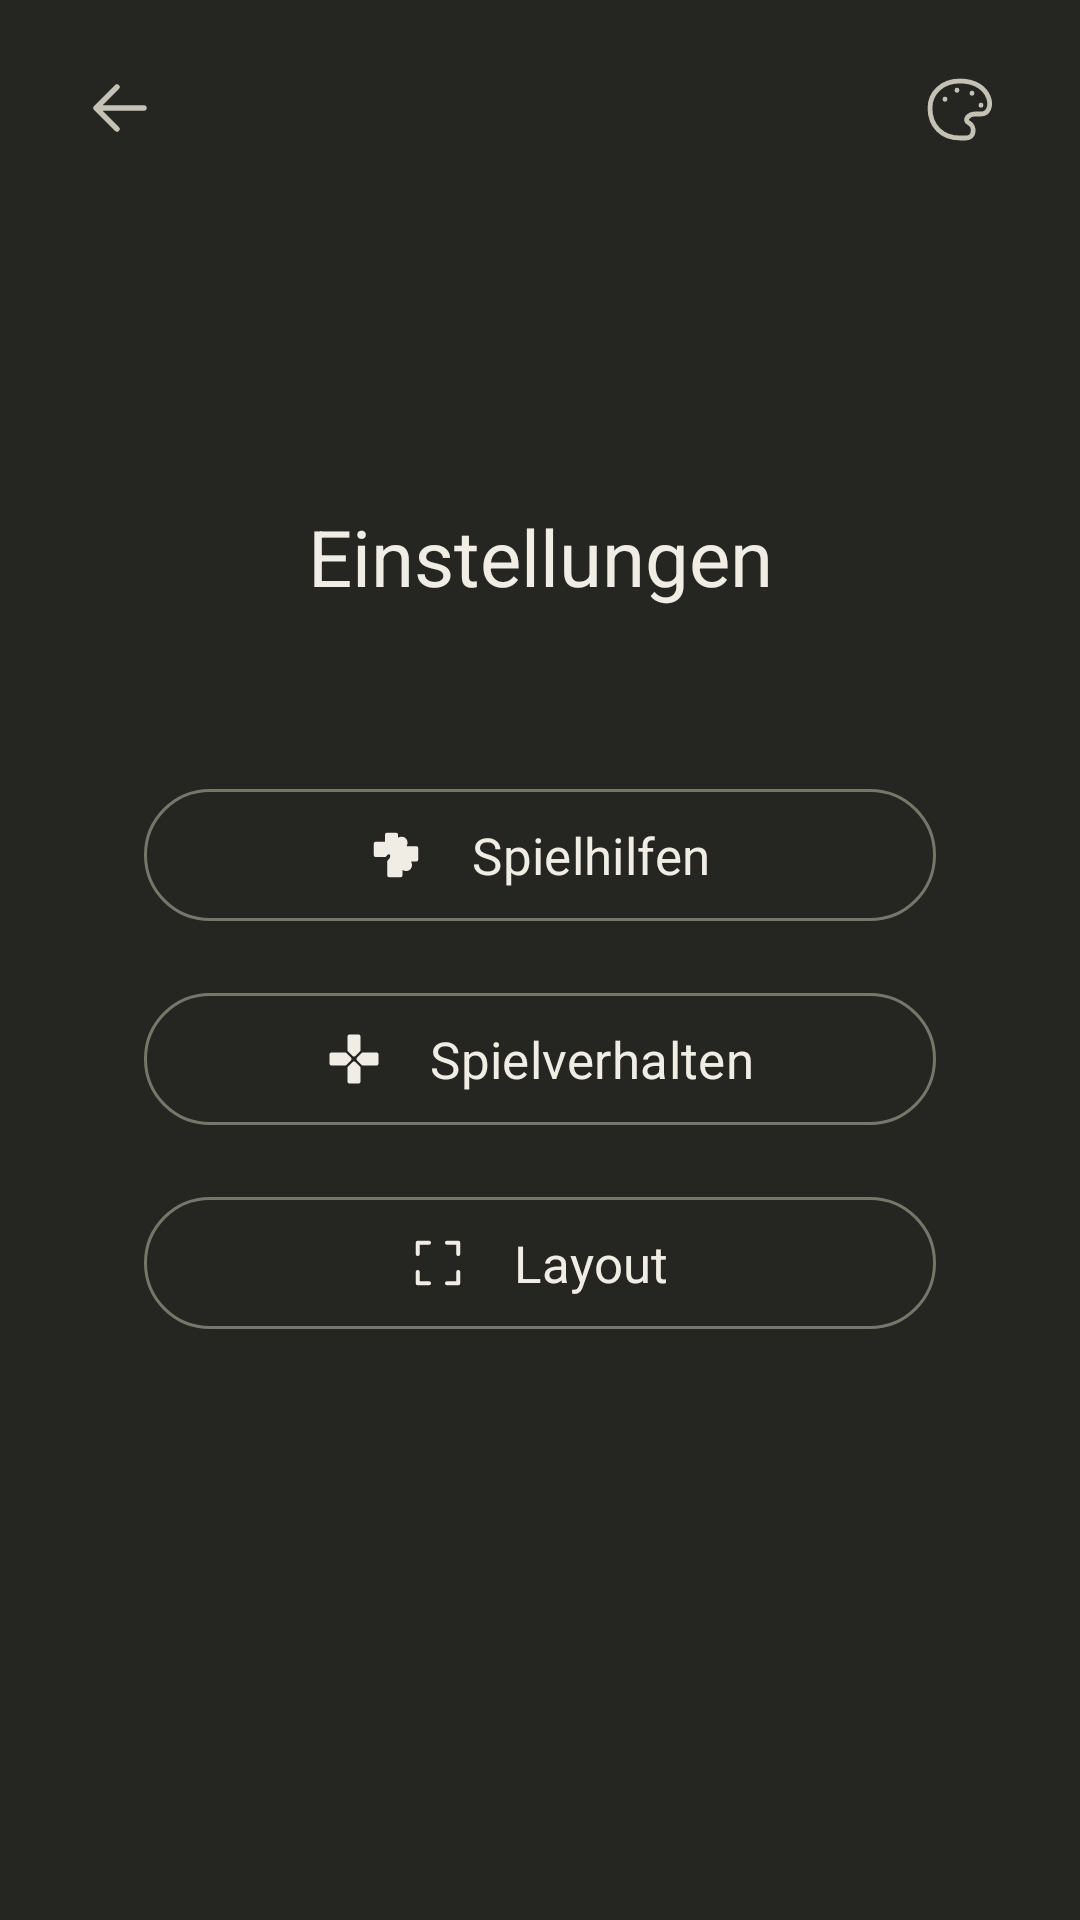

Point at icon controls on the screen. Image size 1080×1920, points as (x=x, y=y).
Farbthema wählen: (x=959, y=109)
Zurück: (x=120, y=108)
